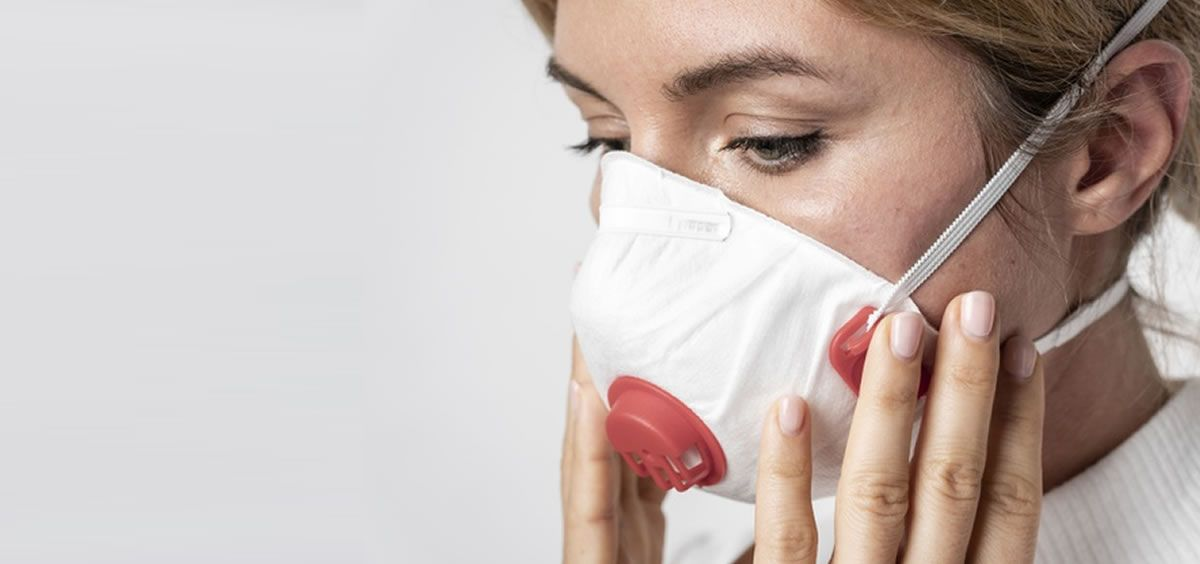with_mask: (513, 4, 1200, 538)
